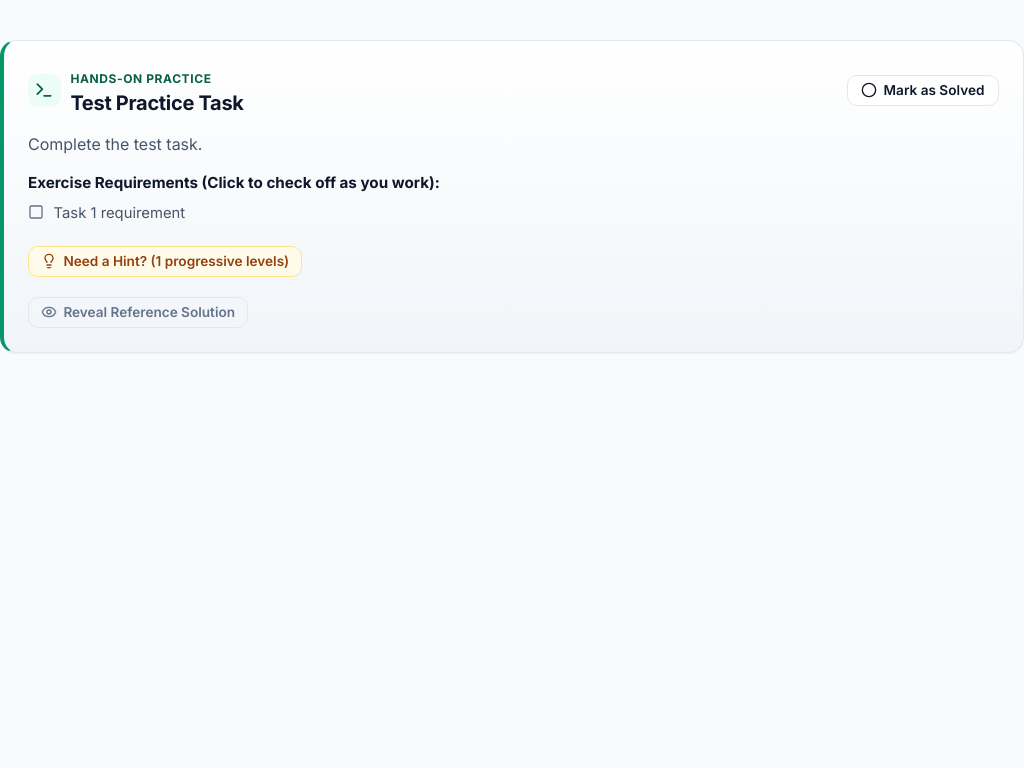
Test: Exercise Component › toggles hints, solutions, and completion status
This screenshot has width=1024, height=768.
Check: the heading "Test Practice Task" is shown, box [70, 91, 244, 116]
Check: the text "Task 1 requirement" is shown, box [54, 202, 185, 224]
// Hints drawer toggle
What coordinates should you click on to do the following:
click the button "Need a Hint? (1 progressive levels)"
I would click on:
 (165, 261)
Its box is [28, 246, 302, 277].
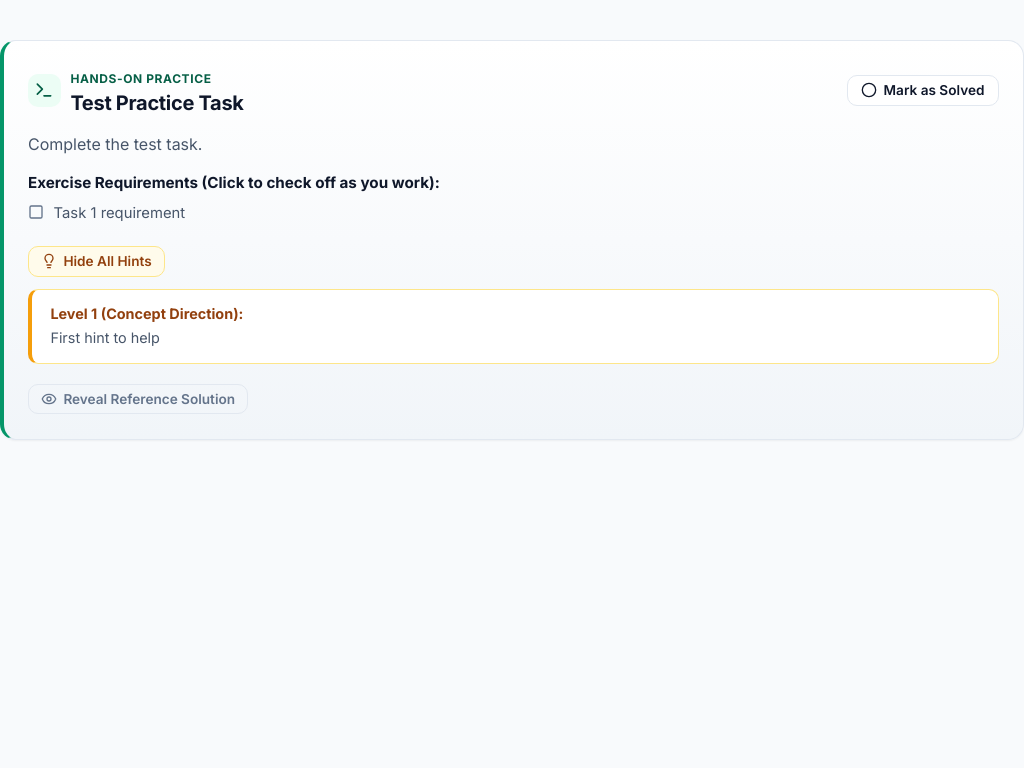
Check: the text "First hint to help" is shown, box [50, 329, 160, 346]
// Solution drawer toggle
What coordinates should you click on to do the following:
click the button "Reveal Reference Solution"
I would click on:
 (138, 399)
Its box is [28, 384, 248, 414].
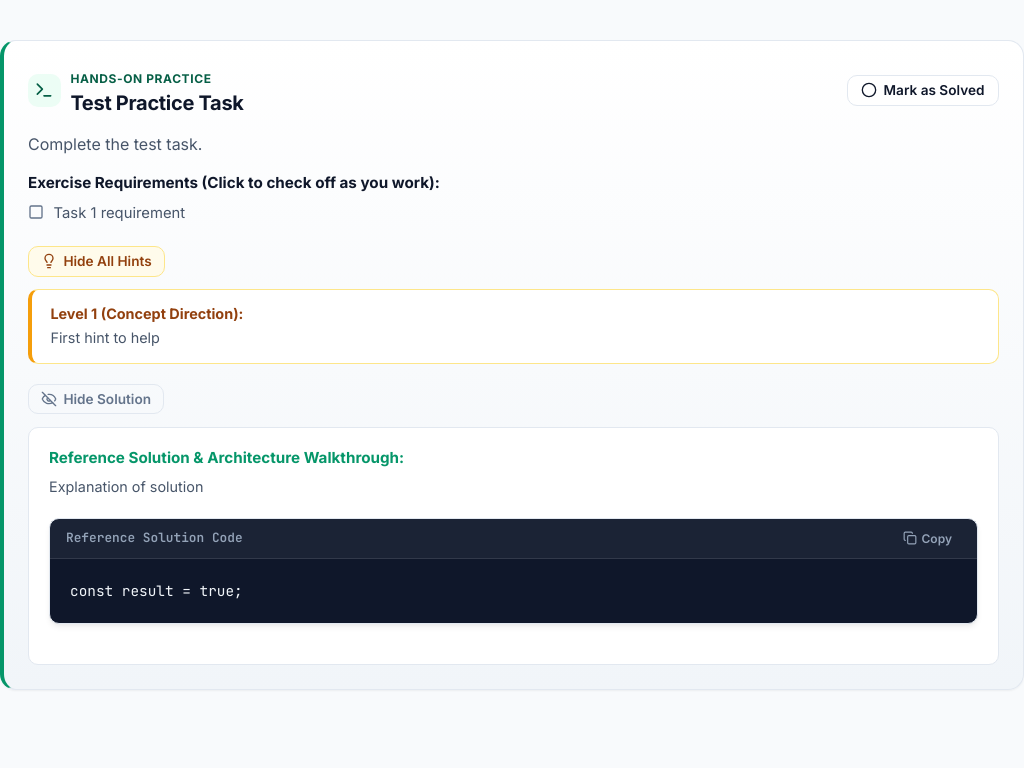
Check: the text "Explanation of solution" is shown, box [49, 478, 203, 494]
// Completion button
What coordinates should you click on to do the following:
click the button "Mark as Solved"
I would click on:
 (923, 90)
Its box is [847, 75, 999, 106].
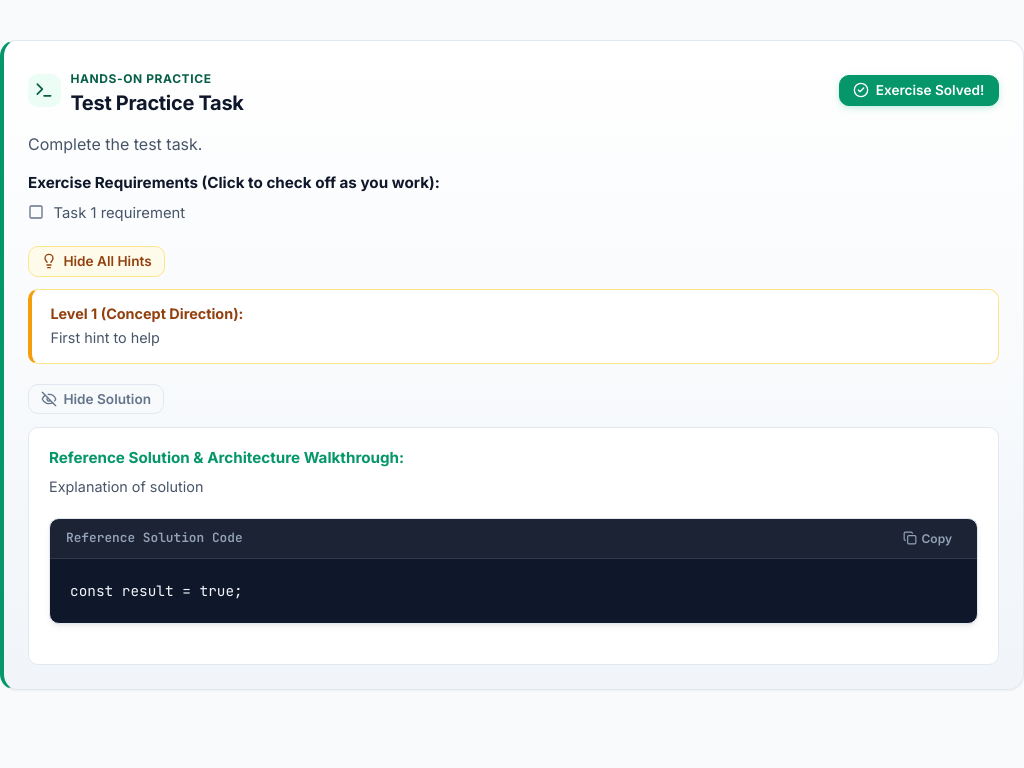
Check: the text "Exercise Solved!" is shown, box [876, 82, 984, 98]
